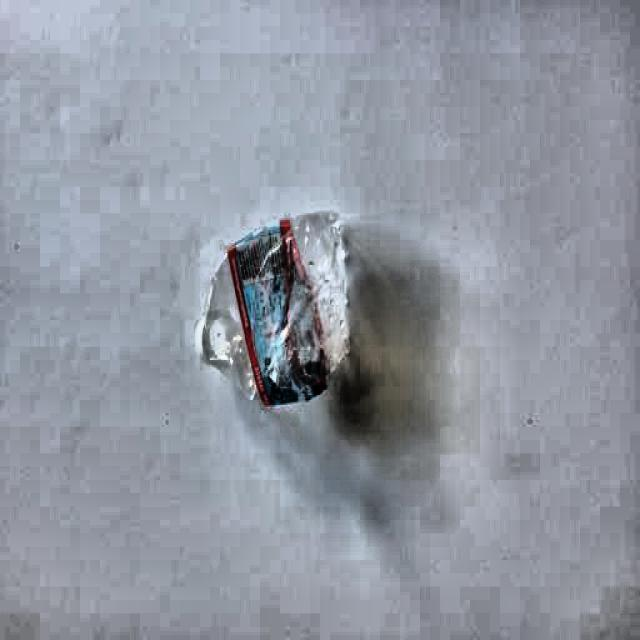plastic: (198, 212, 355, 408)
